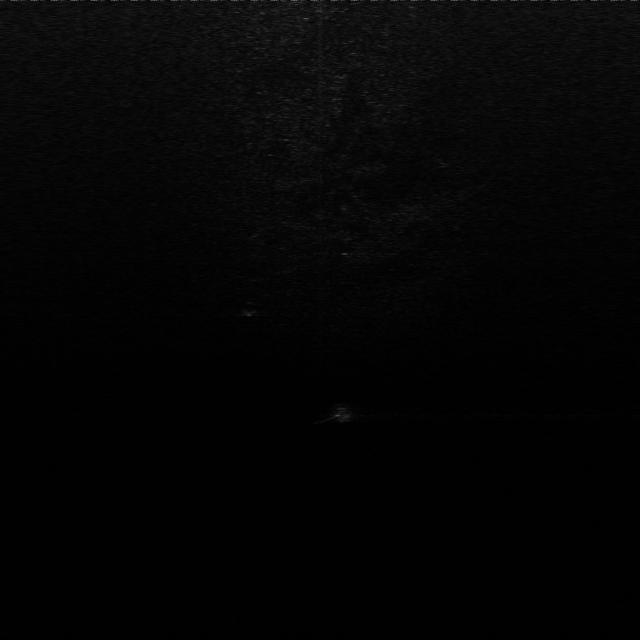ball: (234, 298, 262, 320)
circle cage: (319, 401, 363, 427)
